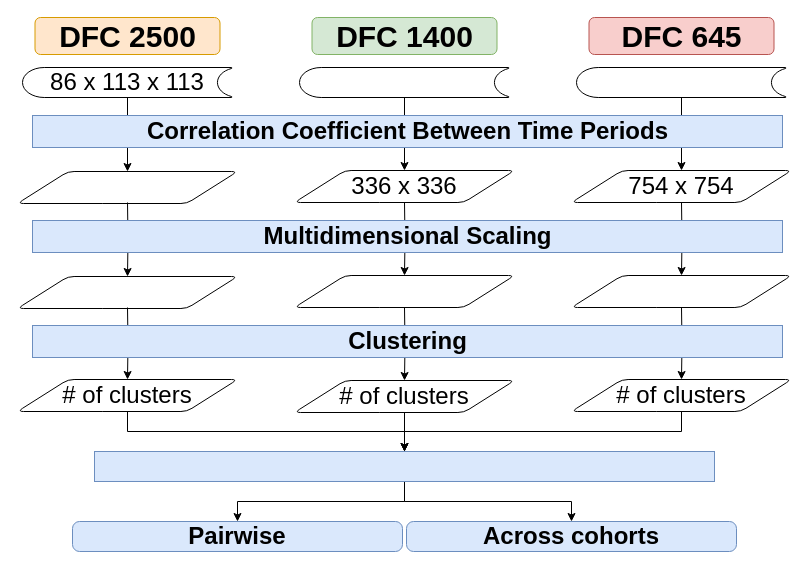
Image size: 809x569. Some labels were removed from this diagram. Each missing label, with the box of its shape:
336 x 113 x 113: (298, 66, 510, 98)
336 x 2: (294, 274, 514, 308)
754 x 113 x 113: (576, 66, 786, 98)
754 x 2: (570, 274, 792, 308)
86 x 2: (16, 276, 238, 308)
86 x 86: (16, 170, 238, 204)
Statistical Analysis: (94, 450, 714, 482)
